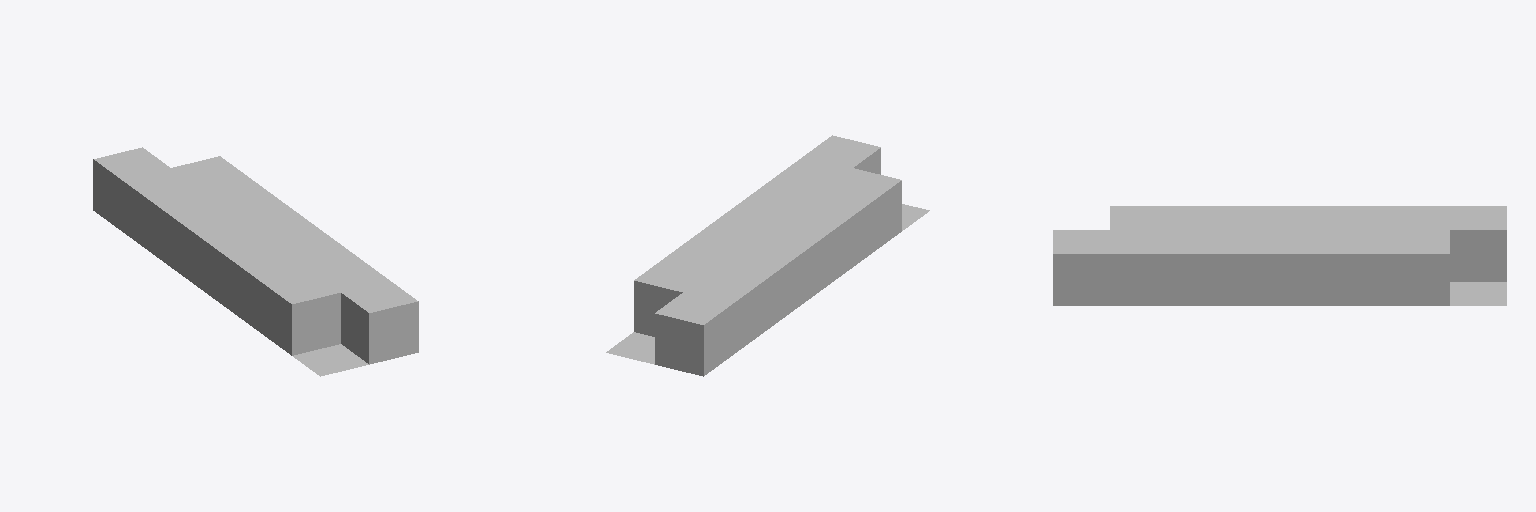
3 views of the same model, side by side, from view 1: azimuth 30°, elevation 25°; view 2: azimuth 150°, elevation 25°; view 3: azimuth 270°, elevation 25° (orthographic).
Parts seen in each view (by area): view 1: Object(2,8)[length_1], Object(1,7)[length_1], Object(1,3)[length_1], Object(1,6)[length_1], Object(1,1)[length_1], Object(1,2)[length_1], Object(1,4)[length_1], Object(1,5)[length_1], Object(2,5)[length_1], Object(2,3)[length_1], Object(1,8)[length_0], Object(2,2)[length_1] (+3 smaller); view 2: Object(1,1)[length_1], Object(1,6)[length_1], Object(1,3)[length_1], Object(2,2)[length_1], Object(1,2)[length_1], Object(1,5)[length_1], Object(1,7)[length_1], Object(1,4)[length_1], Object(2,8)[length_1], Object(2,4)[length_1], Object(2,6)[length_1], Object(2,7)[length_1] (+3 smaller); view 3: Object(1,1)[length_1], Object(2,2)[length_1], Object(2,4)[length_1], Object(2,5)[length_1], Object(2,7)[length_1], Object(2,8)[length_1], Object(2,3)[length_1], Object(2,6)[length_1], Object(1,2)[length_1], Object(1,4)[length_1], Object(1,5)[length_1], Object(1,7)[length_1] (+3 smaller).
Boxes of the visible parts, x1=… form: Object(2,8)[length_1]: x1=341, y1=281, x2=418, y2=364; Object(1,7)[length_1]: x1=264, y1=272, x2=340, y2=355; Object(1,3)[length_1]: x1=150, y1=189, x2=227, y2=272; Object(1,6)[length_1]: x1=235, y1=251, x2=311, y2=334; Object(1,1)[length_1]: x1=93, y1=147, x2=169, y2=230; Object(1,2)[length_1]: x1=122, y1=168, x2=198, y2=251; Object(1,4)[length_1]: x1=179, y1=210, x2=254, y2=292; Object(1,5)[length_1]: x1=207, y1=230, x2=283, y2=313; Object(2,5)[length_1]: x1=256, y1=218, x2=332, y2=250; Object(2,3)[length_1]: x1=200, y1=177, x2=276, y2=208; Object(1,8)[length_0]: x1=293, y1=344, x2=368, y2=376; Object(2,2)[length_1]: x1=172, y1=156, x2=247, y2=188; Object(1,1)[length_1]: x1=655, y1=293, x2=731, y2=376; Object(1,6)[length_1]: x1=796, y1=189, x2=873, y2=272; Object(1,3)[length_1]: x1=712, y1=251, x2=788, y2=334; Object(2,2)[length_1]: x1=634, y1=260, x2=709, y2=336; Object(1,2)[length_1]: x1=683, y1=272, x2=759, y2=355; Object(1,5)[length_1]: x1=769, y1=210, x2=844, y2=292; Object(1,7)[length_1]: x1=825, y1=168, x2=901, y2=251; Object(1,4)[length_1]: x1=740, y1=230, x2=816, y2=313; Object(2,8)[length_1]: x1=805, y1=135, x2=880, y2=174; Object(2,4)[length_1]: x1=691, y1=218, x2=767, y2=250; Object(2,6)[length_1]: x1=747, y1=177, x2=823, y2=208; Object(2,7)[length_1]: x1=776, y1=156, x2=851, y2=188; Object(1,1)[length_1]: x1=1450, y1=206, x2=1506, y2=281; Object(2,2)[length_1]: x1=1393, y1=230, x2=1449, y2=305; Object(2,4)[length_1]: x1=1280, y1=230, x2=1336, y2=305; Object(2,5)[length_1]: x1=1223, y1=230, x2=1279, y2=305; Object(2,7)[length_1]: x1=1110, y1=230, x2=1166, y2=305; Object(2,8)[length_1]: x1=1053, y1=230, x2=1109, y2=305; Object(2,3)[length_1]: x1=1337, y1=230, x2=1392, y2=305; Object(2,6)[length_1]: x1=1167, y1=230, x2=1222, y2=305; Object(1,2)[length_1]: x1=1393, y1=206, x2=1449, y2=229; Object(1,4)[length_1]: x1=1280, y1=206, x2=1336, y2=229; Object(1,5)[length_1]: x1=1223, y1=206, x2=1279, y2=229; Object(1,7)[length_1]: x1=1110, y1=206, x2=1166, y2=229.
Size of the model in its own units: 2 by 1 by 8.